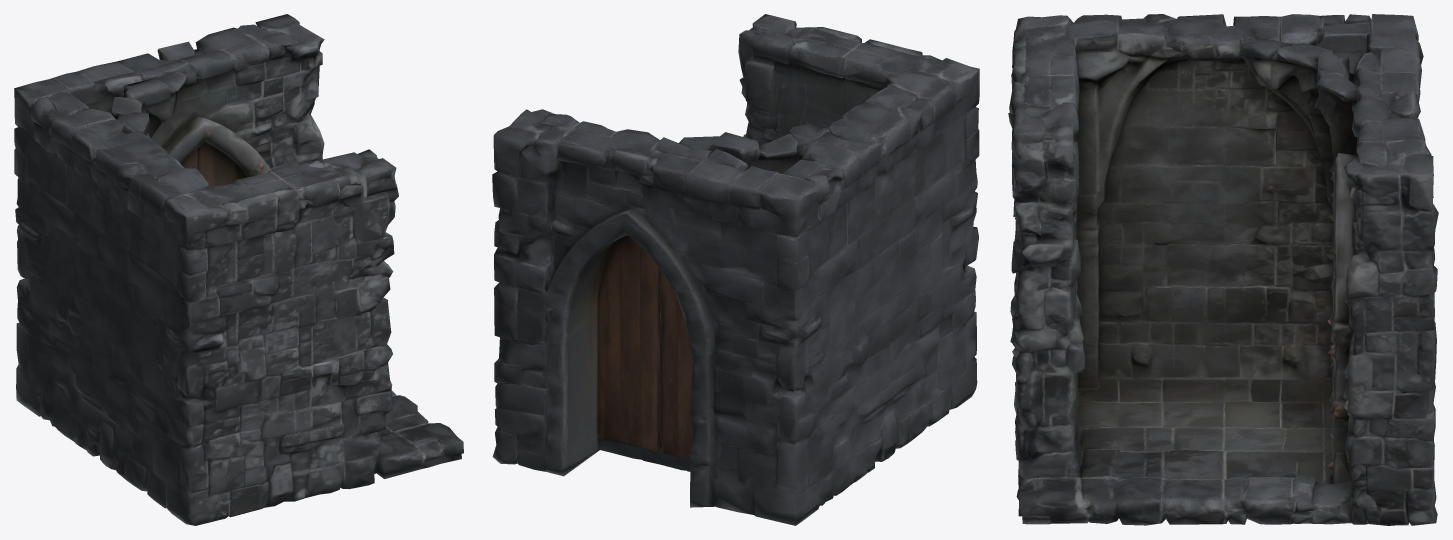
Rendered from mod_gate.glb.
The picture shows the model from 3 angles, left to right: view 1: azimuth 30°, elevation 25°; view 2: azimuth 150°, elevation 25°; view 3: azimuth 270°, elevation 25°; orthographic projection. The views are drawn at different scales.
Visible parts, largest first — view 1: tripo_node_1dd0d600-ebc7-4a83-9fba-87d53496ca56; view 2: tripo_node_1dd0d600-ebc7-4a83-9fba-87d53496ca56; view 3: tripo_node_1dd0d600-ebc7-4a83-9fba-87d53496ca56.
Boxes of the visible parts, x1,y1,x2,y2 form: tripo_node_1dd0d600-ebc7-4a83-9fba-87d53496ca56: [14, 14, 463, 525]; tripo_node_1dd0d600-ebc7-4a83-9fba-87d53496ca56: [492, 14, 979, 525]; tripo_node_1dd0d600-ebc7-4a83-9fba-87d53496ca56: [1008, 14, 1438, 525].
Size of the model in its own units: 0.8891 by 0.9372 by 1.
1 material, 1 textured.
